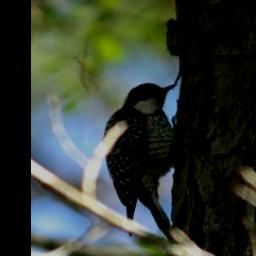Woodpecker: (102, 81, 181, 242)
